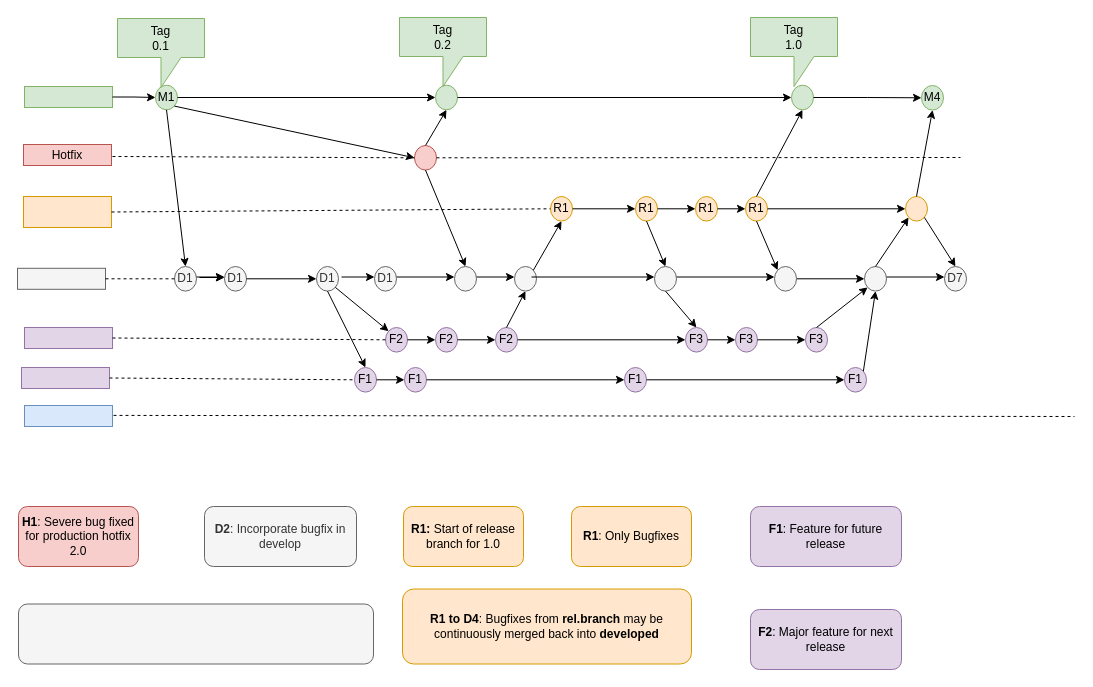
Some shapes in this 1093 by 687 pixel diagram are drawn without their labels. Each missing label, with the centre of its shape:
D2: point 465,278
D3: point 525,278
D3 : From this point on, "next release" means he release after 1.0: point 196,633
D4: point 665,278
D5: point 785,278
D6: point 875,278
Development: point 61,278
Feature team 1: point 65,377
Feature team 2: point 68,337
H1: point 425,157
M2: point 446,97
M3: point 802,97
Master: point 68,97
R2: point 916,208
Release Branches: point 67,212
Time: point 68,415
